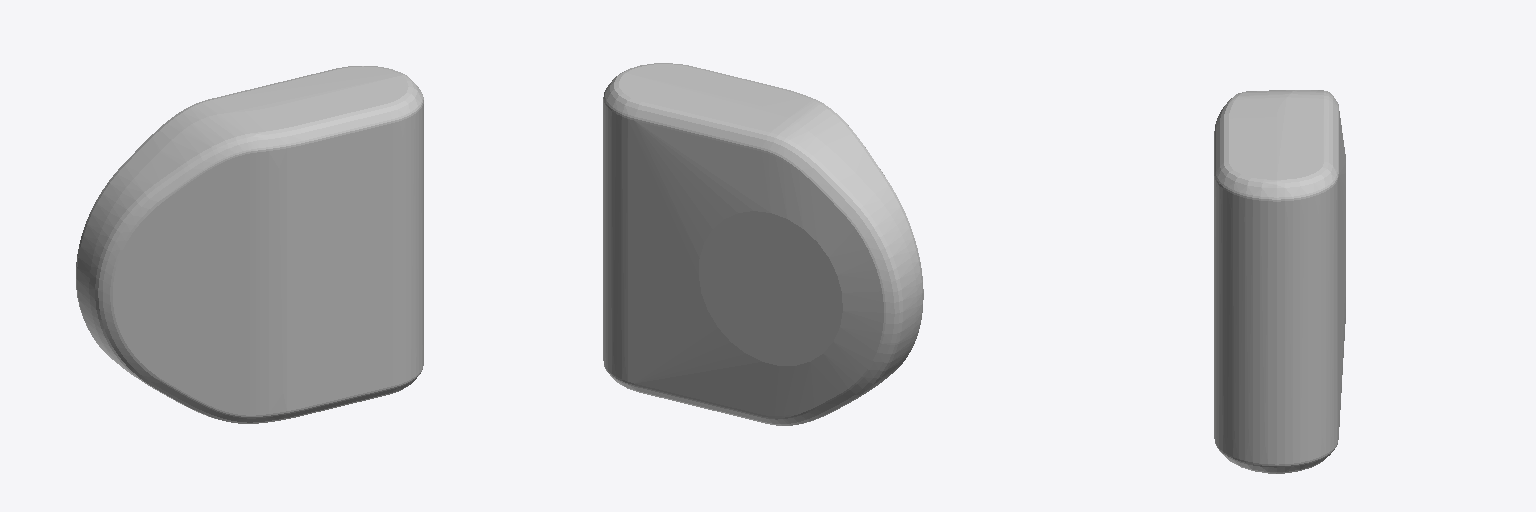
The model's file is head_pan_link_collision.obj.
3 renders of one model, left to right at view 1: azimuth 30°, elevation 25°; view 2: azimuth 150°, elevation 25°; view 3: azimuth 270°, elevation 25°, orthographic.
Size of the model in its own units: 0.3224 by 0.286 by 0.116.